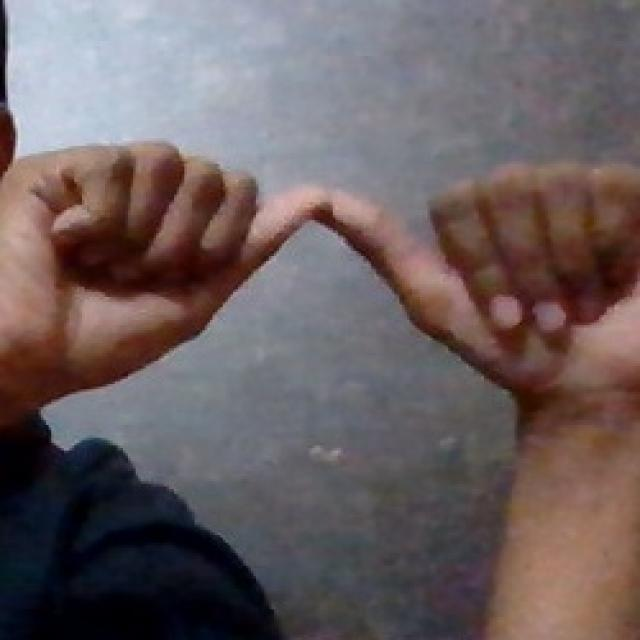Alphabet-A: (12, 135, 634, 396)
